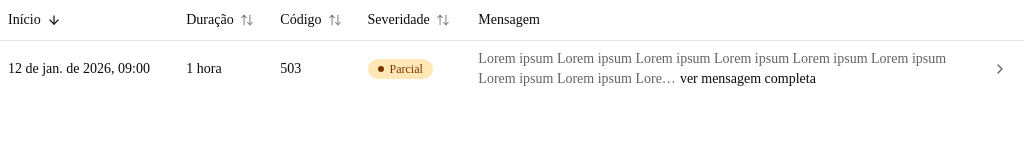
IncidentsTable › expand/collapse toggle reveals the full message and toggles aria-expanded
The image size is (1024, 160).
Click the button "ver mensagem completa" at (748, 78), box [680, 68, 816, 88]
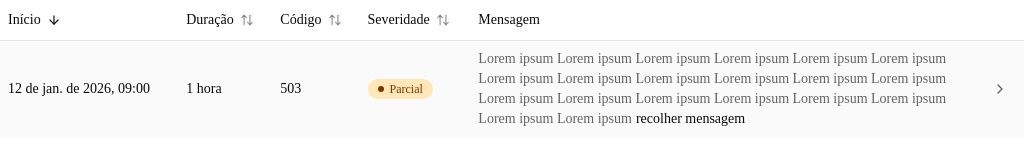
Check: the button "recolher mensagem" is expanded, box [636, 108, 745, 128]
